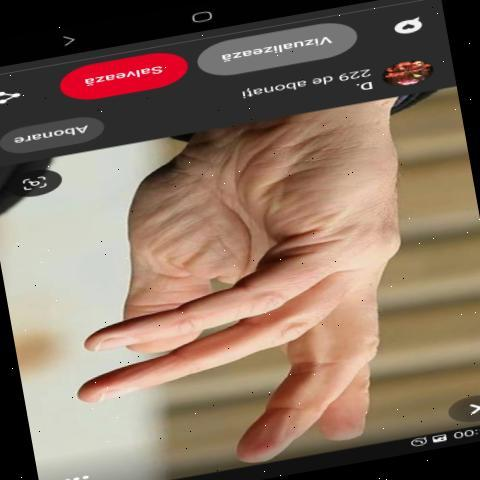Hands: (40, 104, 430, 476)
